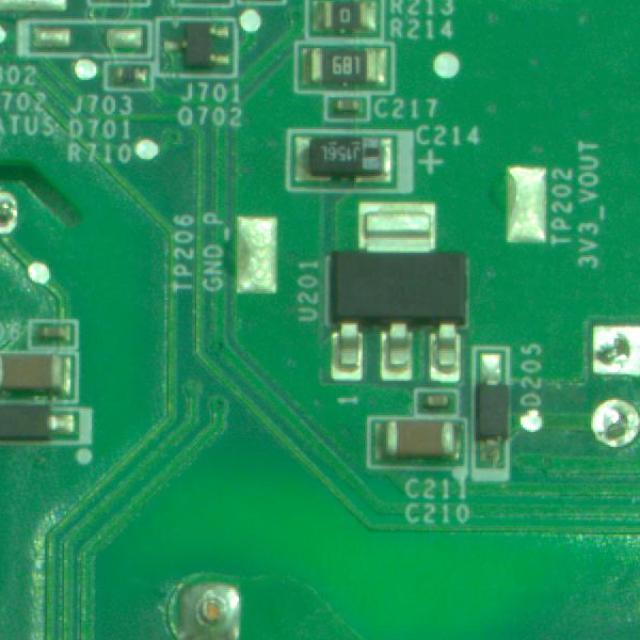Insufficient solder: (574, 310, 640, 386), (585, 395, 640, 451), (0, 188, 36, 234)
